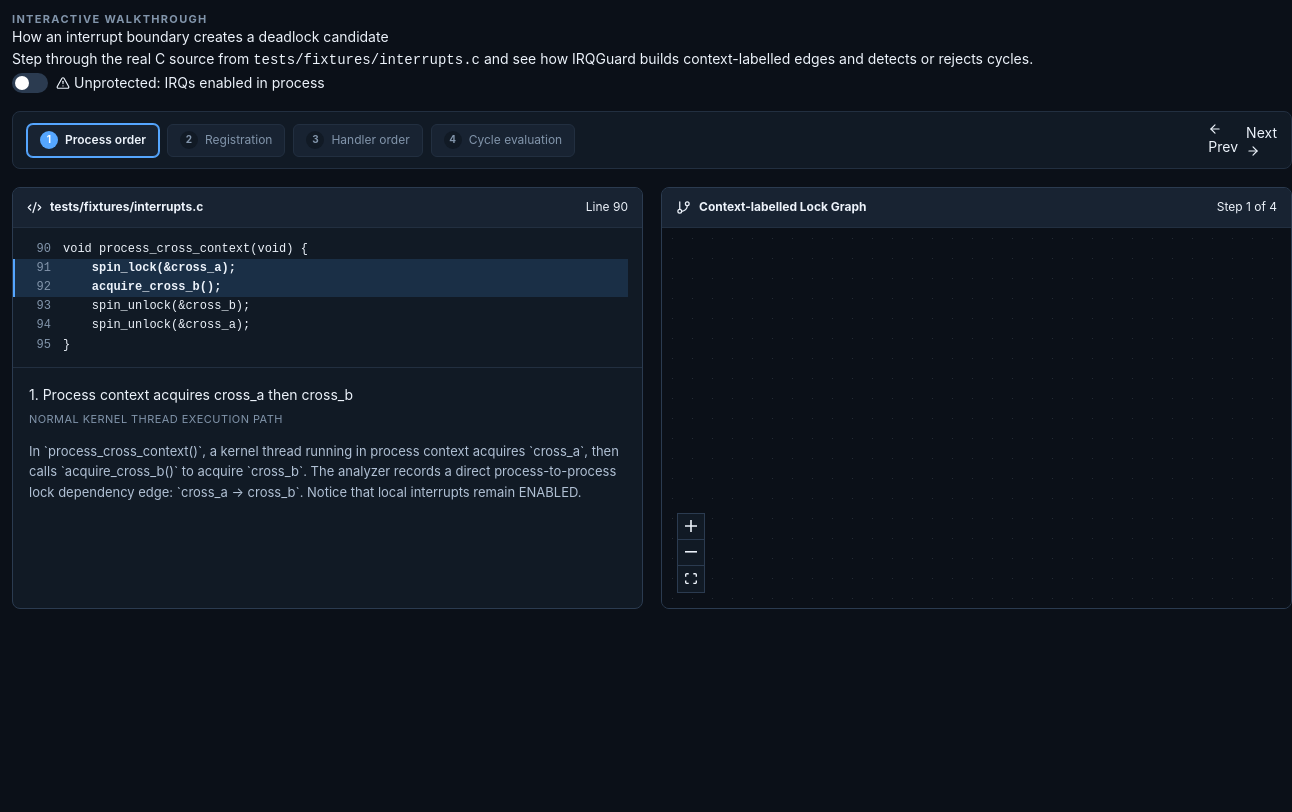
Scenario: WalkthroughPage › navigates through steps 1 to 4 with next and previous buttons
Expected: the button with aria-label "Previous step" is disabled, [1208,122,1238,158]
Click the button with aria-label "Next step": coordinates (1262, 140) [1246,122,1277,158]
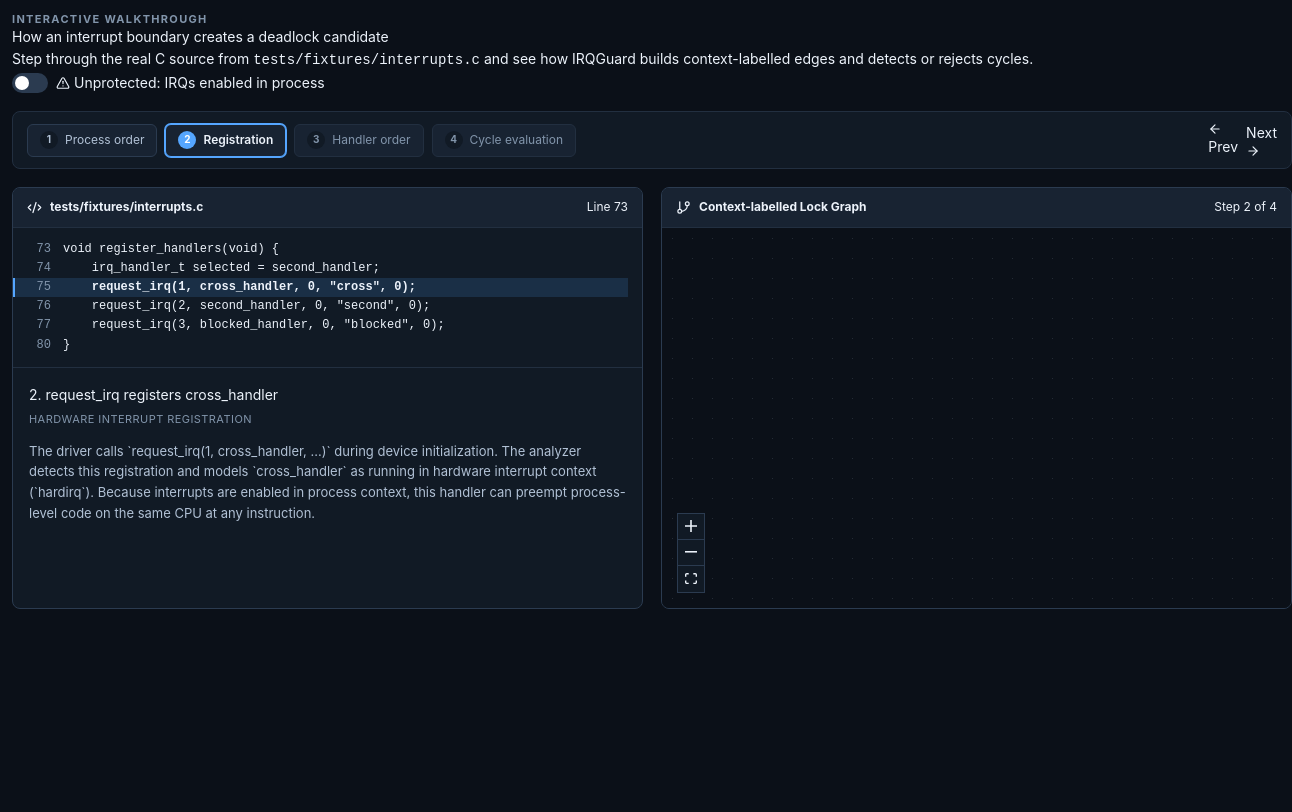
Now the text "Step 2 of 4" is shown, box [1214,199,1277,215]
Now the heading "2. request_irq registers cross_handler" is shown, box [29,386,278,403]
Click the button with aria-label "Next step": coordinates (1262, 140) [1246,122,1277,158]
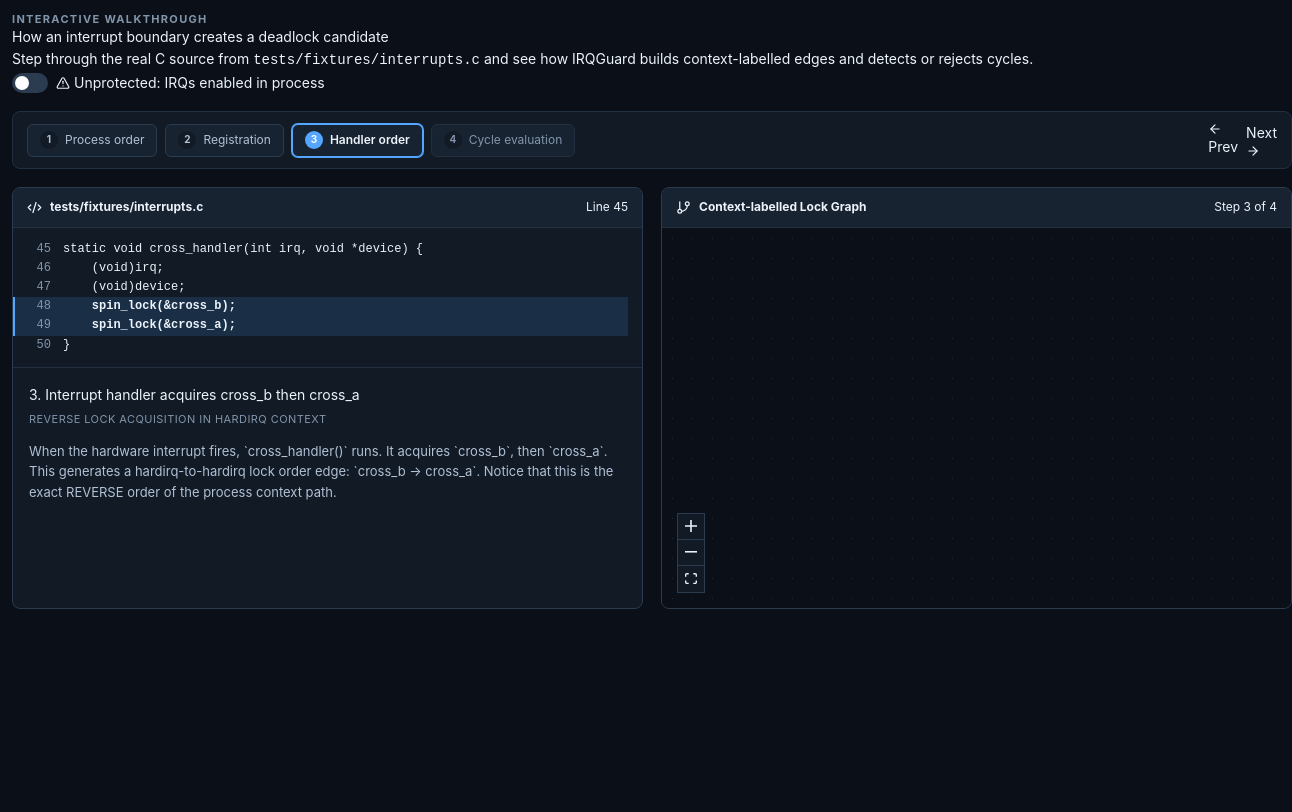
Now the text "Step 3 of 4" is shown, box [1214,199,1277,215]
Now the heading "3. Interrupt handler acquires cross_b then cross_a" is shown, box [29,386,360,403]
Click the button with aria-label "Next step": coordinates (1262, 140) [1246,122,1277,158]
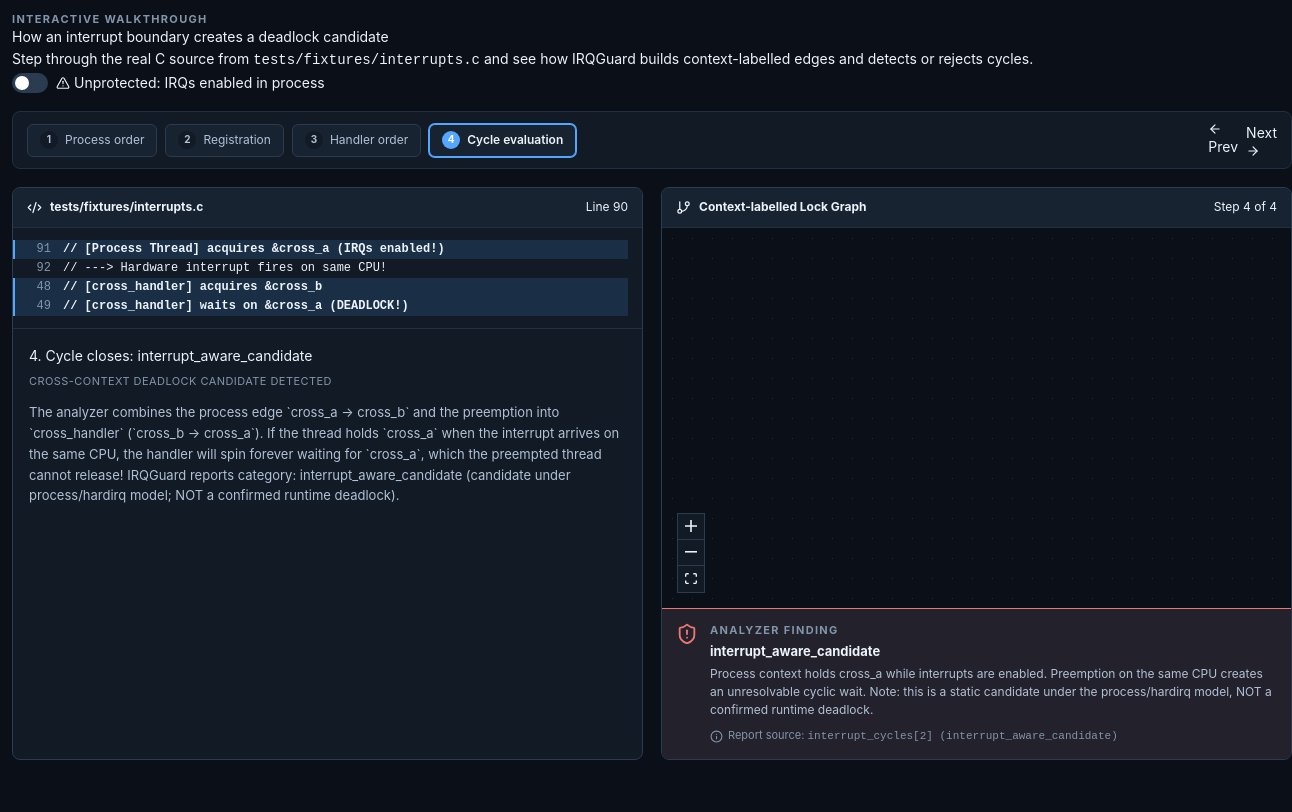
Now the text "Step 4 of 4" is shown, box [1214,199,1277,215]
Now the heading "4. Cycle closes: interrupt_aware_candidate" is shown, box [29,347,312,364]
Now the text "NOT a confirmed runtime deadlock" is shown, box [29,404,619,503]
# Back to Step 3
Click the button with aria-label "Previous step": coordinates (1223, 140) [1208,122,1238,158]
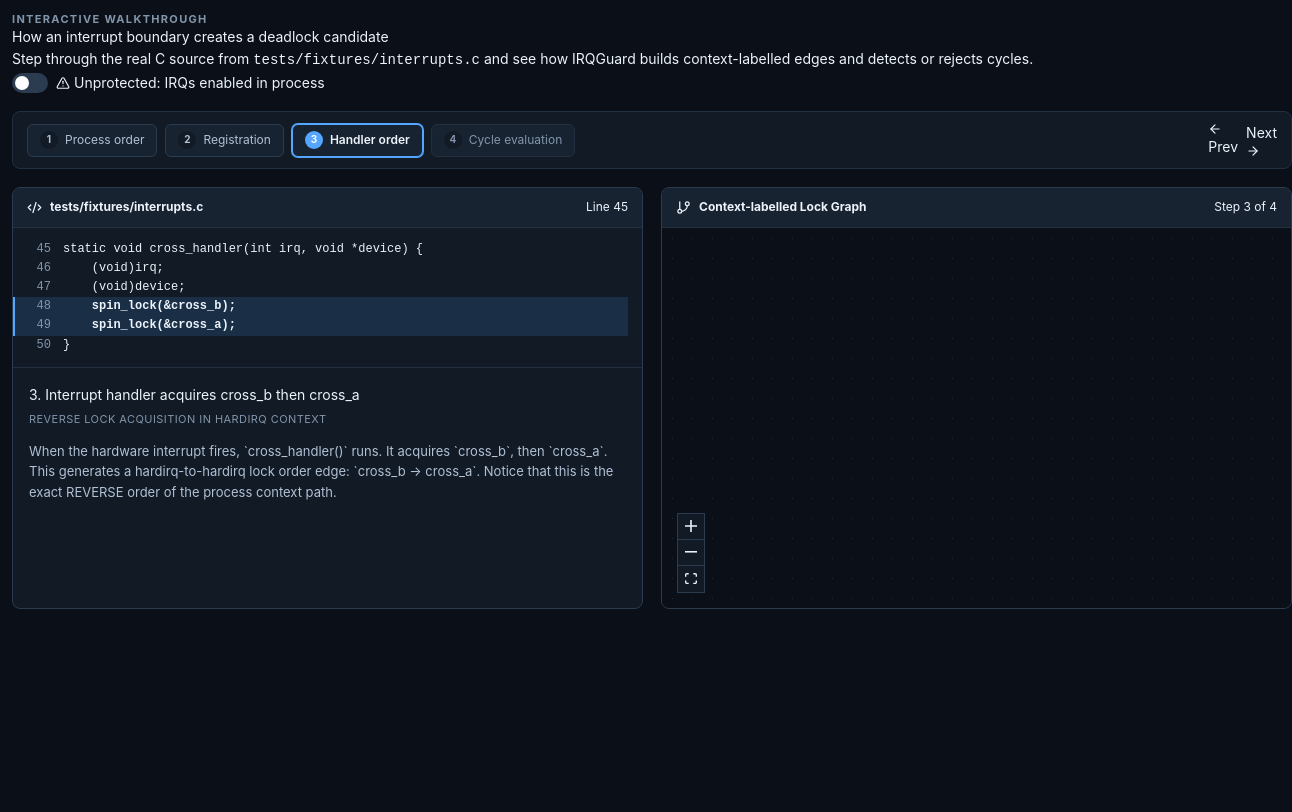
Now the text "Step 3 of 4" is shown, box [1214,199,1277,215]
